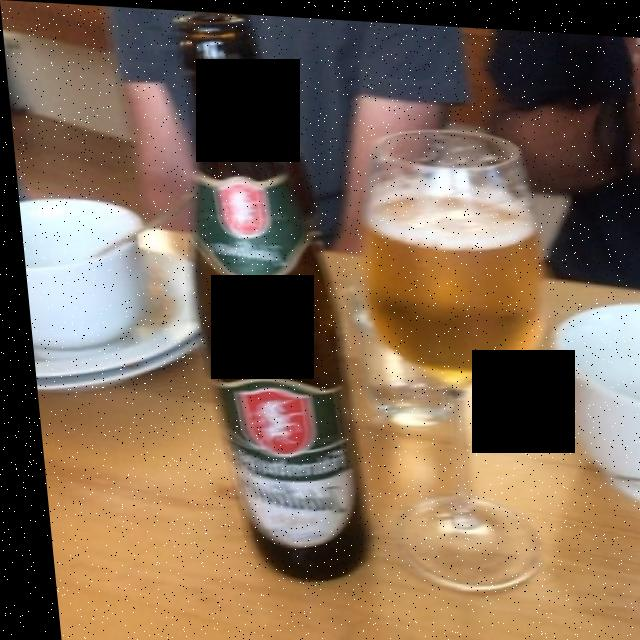beer: (362, 192, 536, 375)
